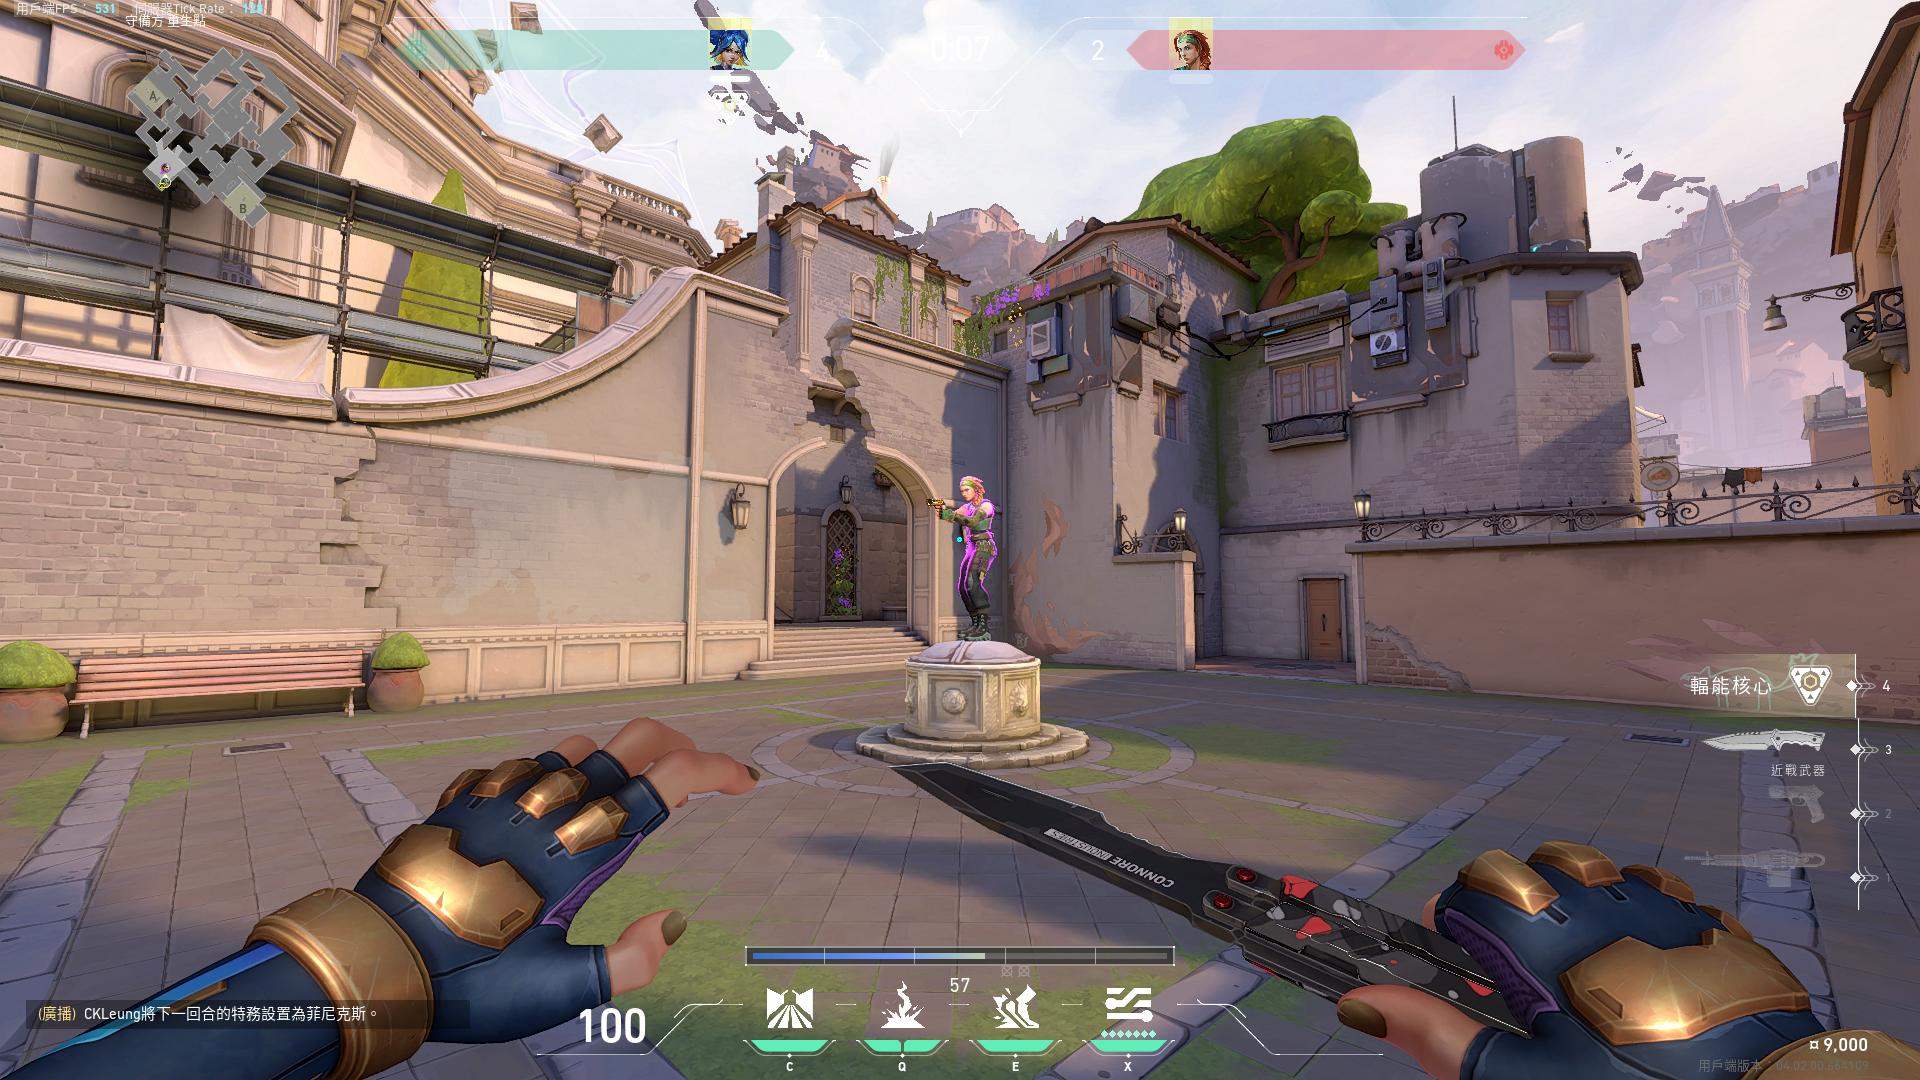enemyBody: (964, 508, 986, 543)
enemyHead: (963, 484, 975, 498)
